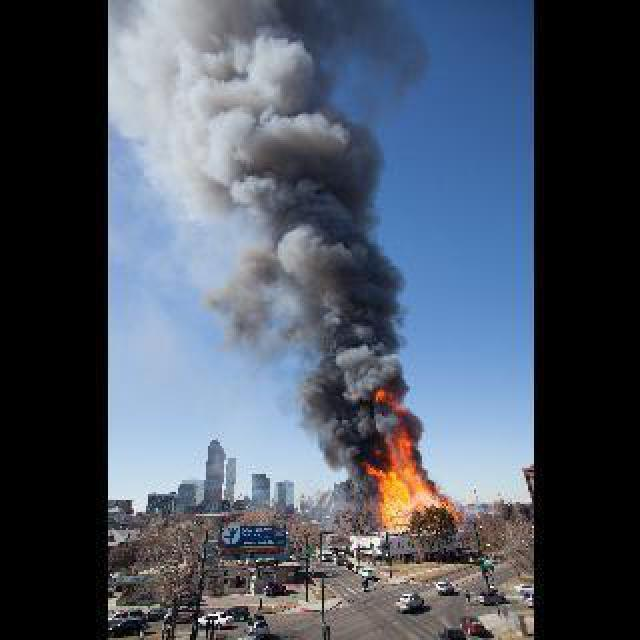Fire: (364, 436, 448, 534)
Smoke: (126, 10, 428, 452)
